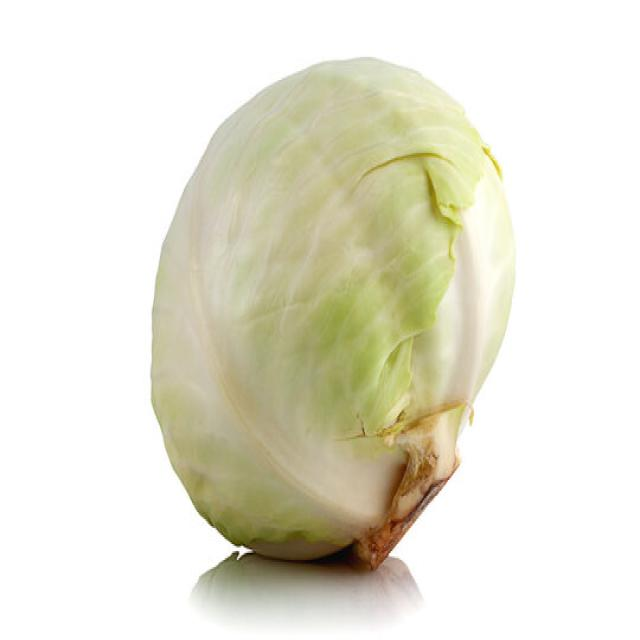Cabbage: (148, 53, 516, 571)
